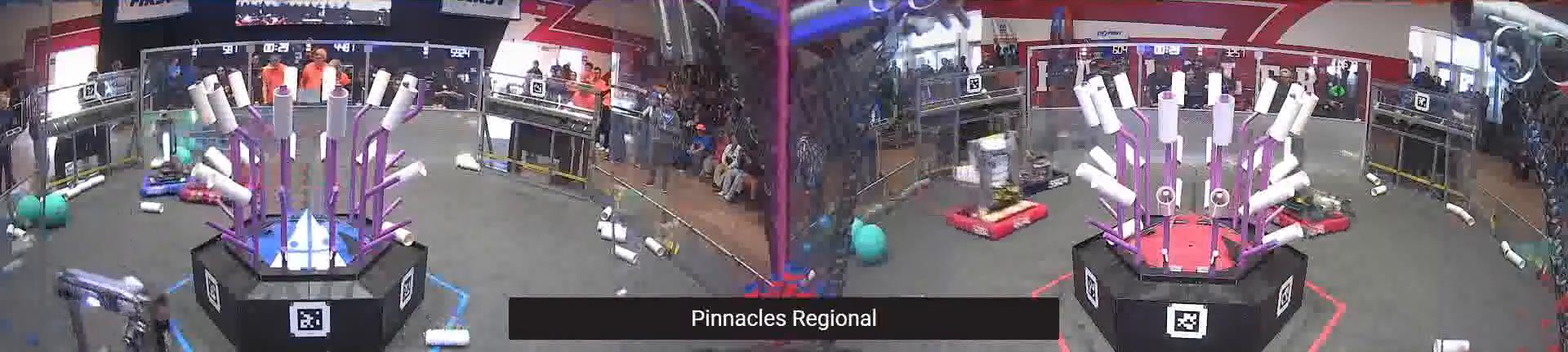reef: (187, 69, 426, 352), (1070, 69, 1307, 352)
robot: (50, 264, 180, 352), (942, 188, 1051, 243), (1261, 189, 1354, 243), (137, 120, 197, 196), (180, 160, 267, 204), (999, 153, 1073, 197)
